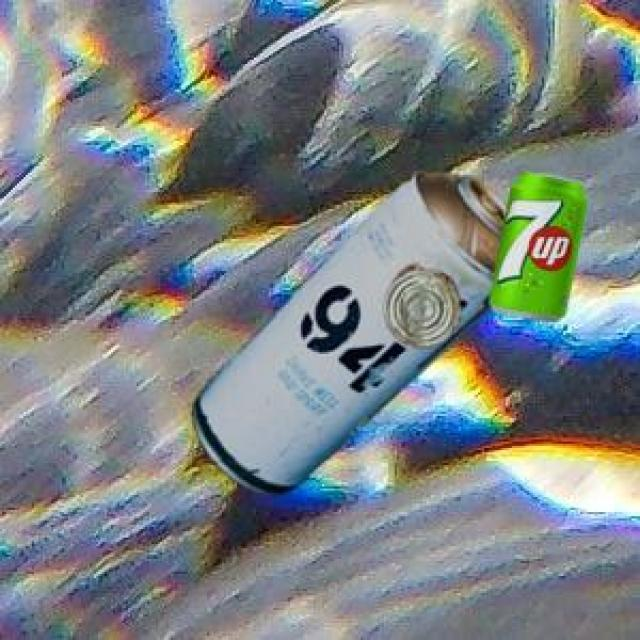Can: (189, 170, 505, 492), (487, 167, 583, 319), (381, 263, 458, 345)
